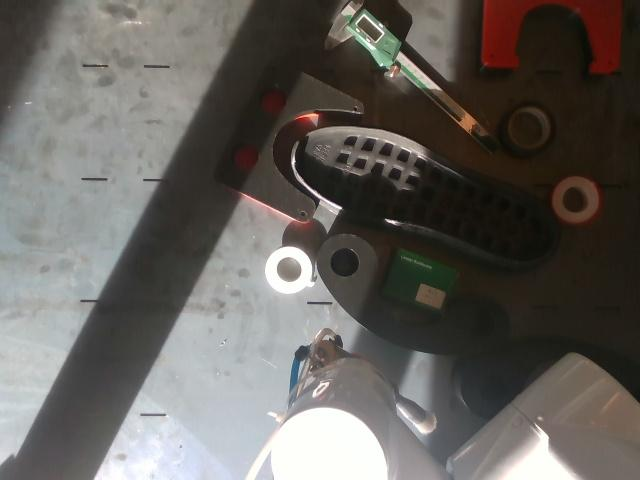shoes: (295, 126, 557, 262)
